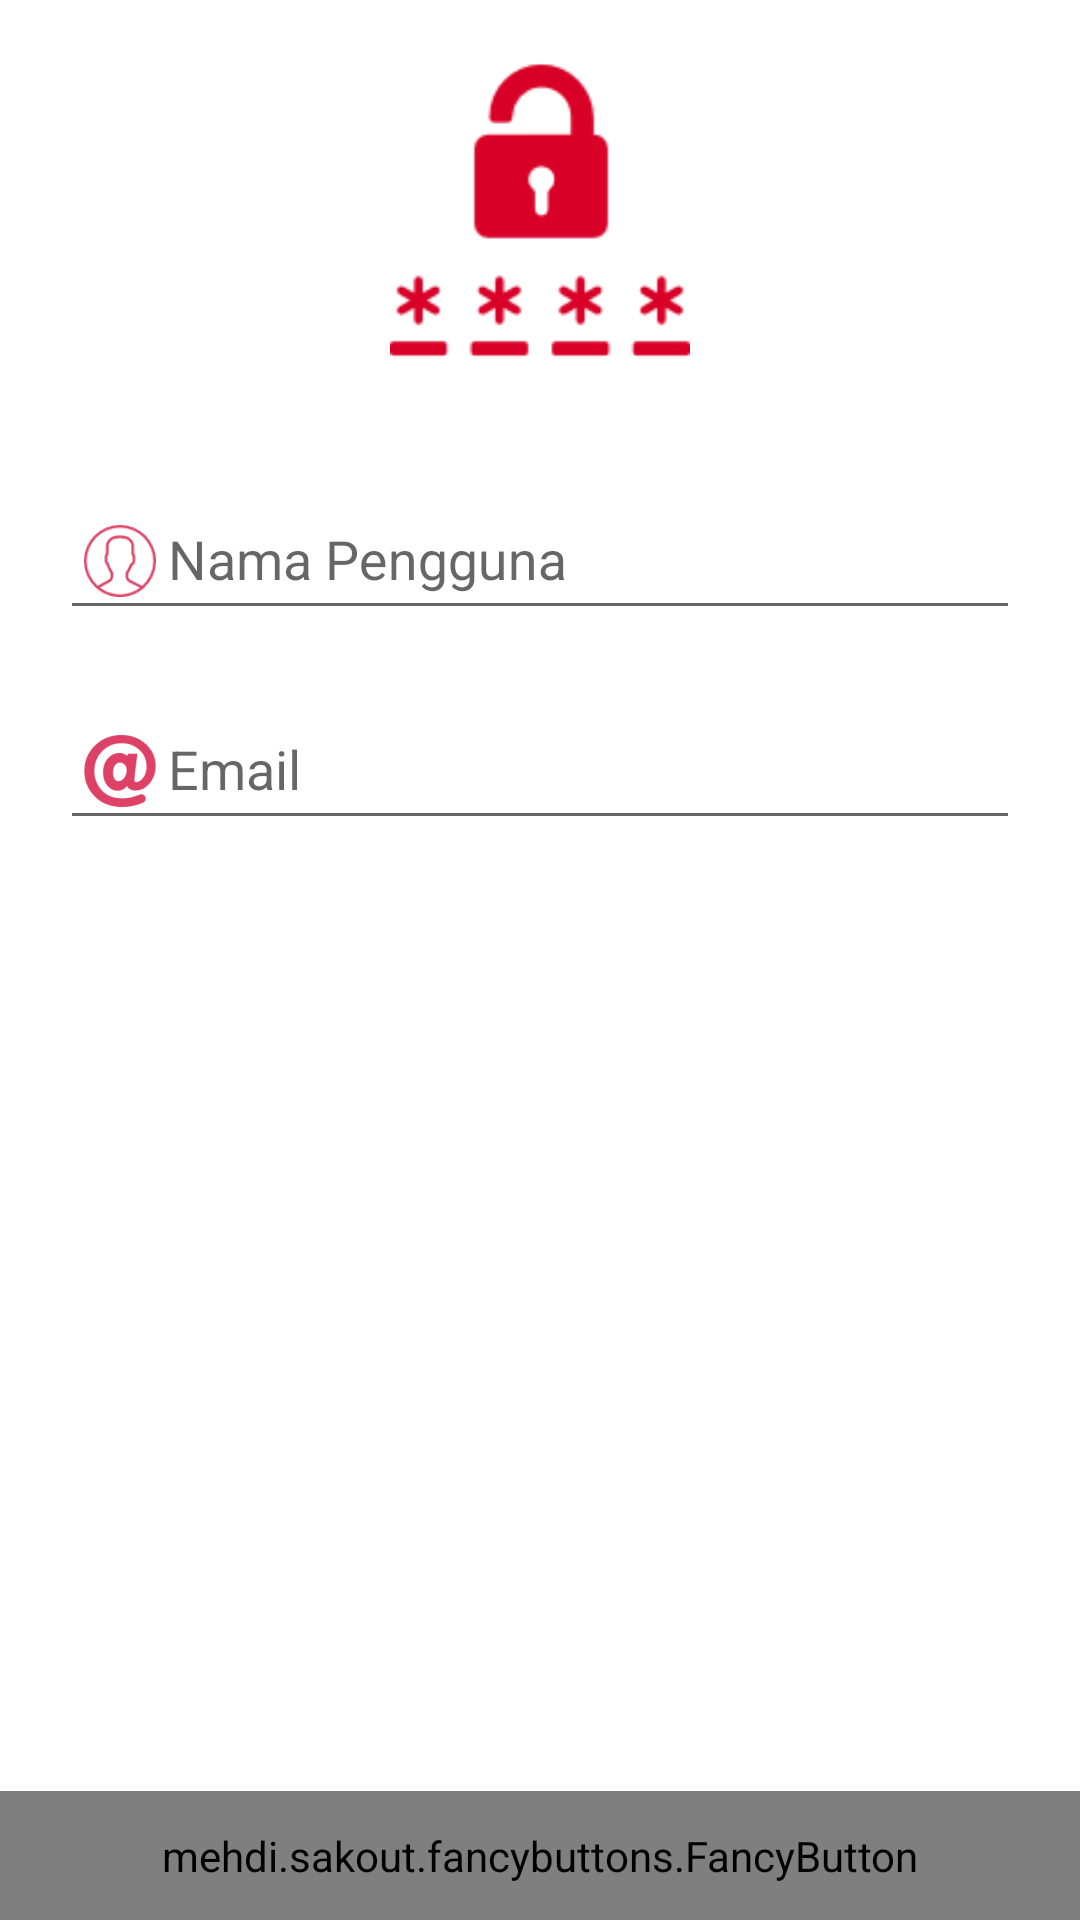

Icon bounding boxes for this 1080×1920 phone screenshot, format (x1, y1, x2, y2):
reset password: (390, 64, 690, 356)
